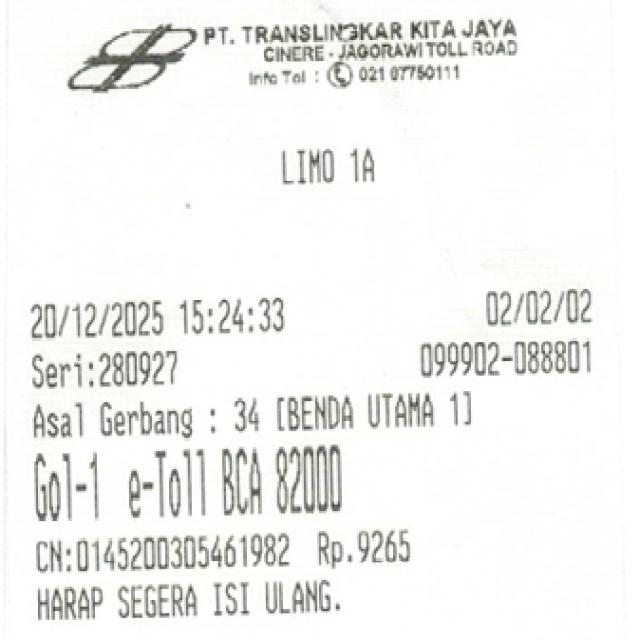date: (22, 293, 296, 336)
store: (187, 14, 542, 56)
total: (274, 446, 354, 510)
